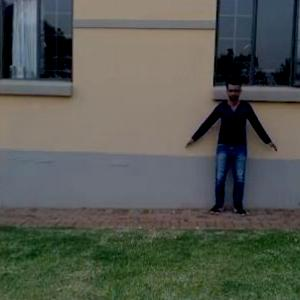land: (182, 78, 278, 224)
